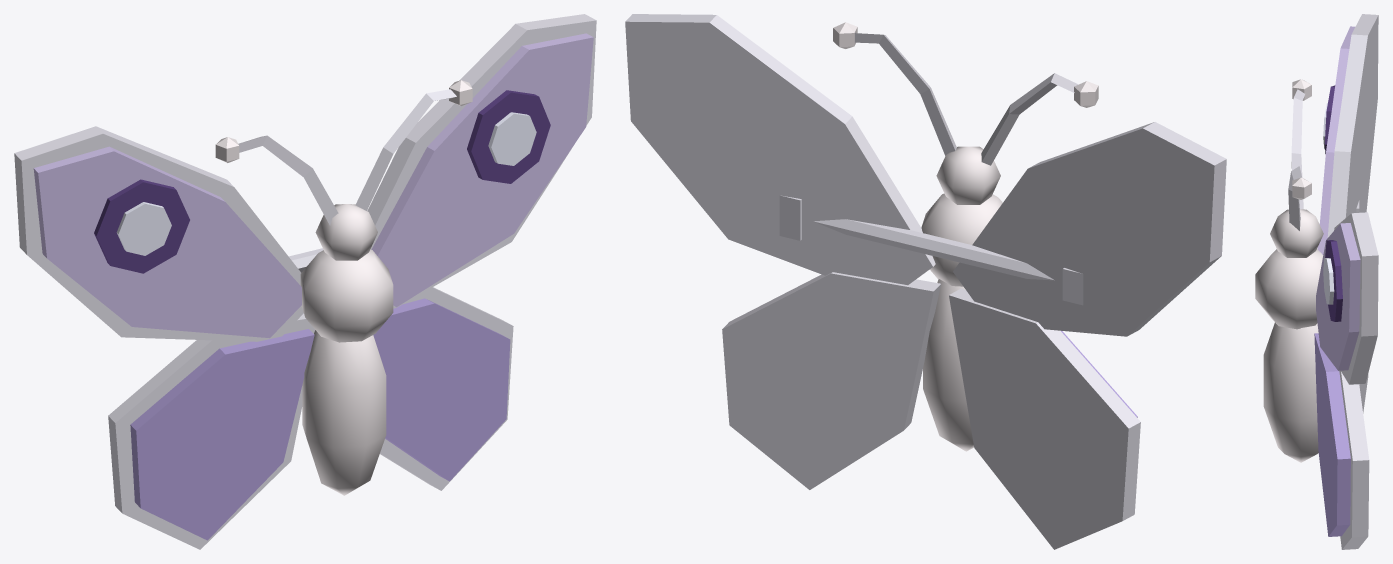
File: moth_brooch.glb
3 renders of one model, left to right at view 1: azimuth 30°, elevation 25°; view 2: azimuth 150°, elevation 25°; view 3: azimuth 270°, elevation 25°, orthographic. The views are drawn at different scales.
Parts seen in each view (by area): view 1: moth_brooch; view 2: moth_brooch; view 3: moth_brooch.
Part boxes in pixels (x1,y1,x2,y2): moth_brooch: (14, 14, 596, 549); moth_brooch: (625, 14, 1226, 549); moth_brooch: (1255, 14, 1378, 549).
Size of the model in its own units: 0.2762 by 0.1994 by 0.0593.
